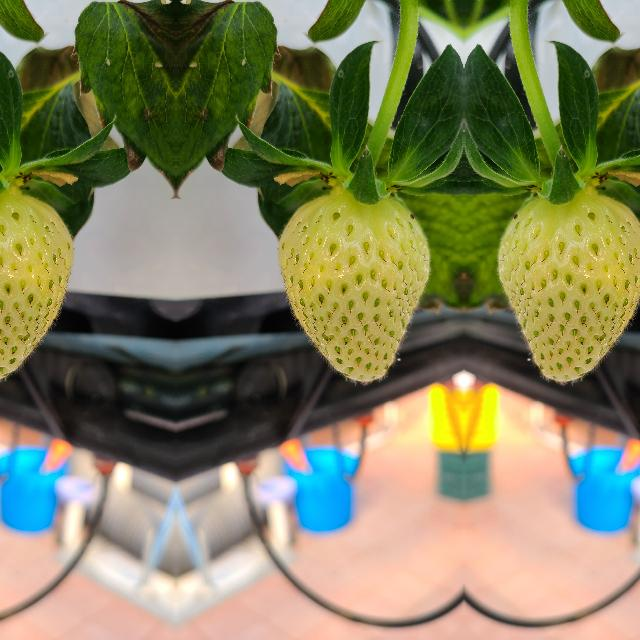Health_25: (276, 190, 432, 386), (494, 190, 640, 386), (0, 190, 73, 386)
